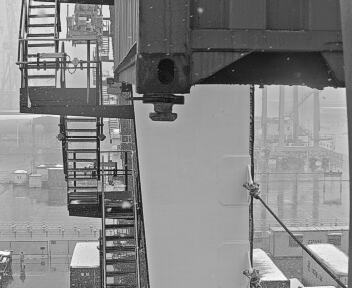twist_lock_1: (97, 152, 140, 183)
